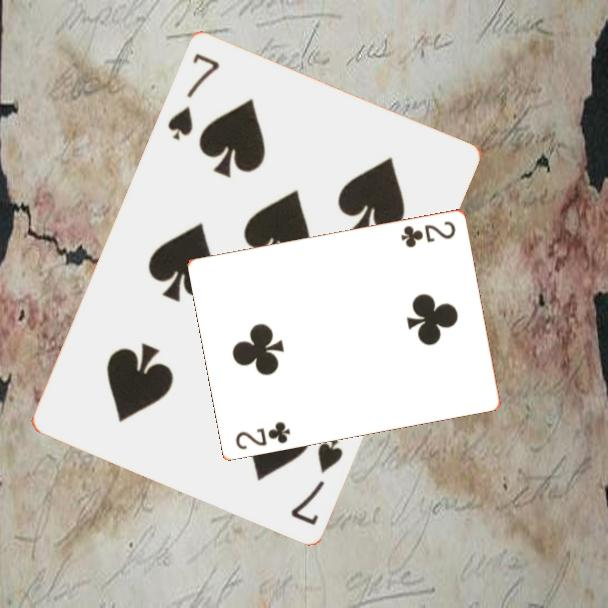c02: (232, 418, 293, 452), (397, 217, 459, 250)
s07: (164, 49, 223, 143), (287, 434, 346, 528)
